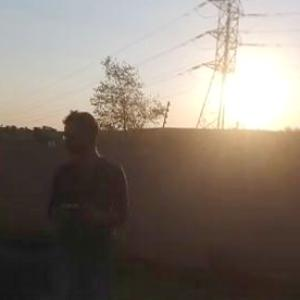follow: (41, 103, 139, 299)
